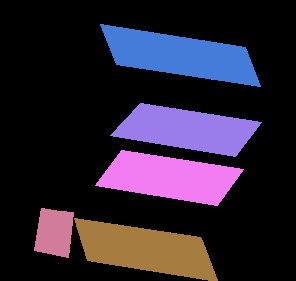parkingspot: (99, 24, 260, 87), (73, 218, 217, 281), (94, 150, 243, 206), (109, 103, 261, 157), (33, 208, 73, 258)
